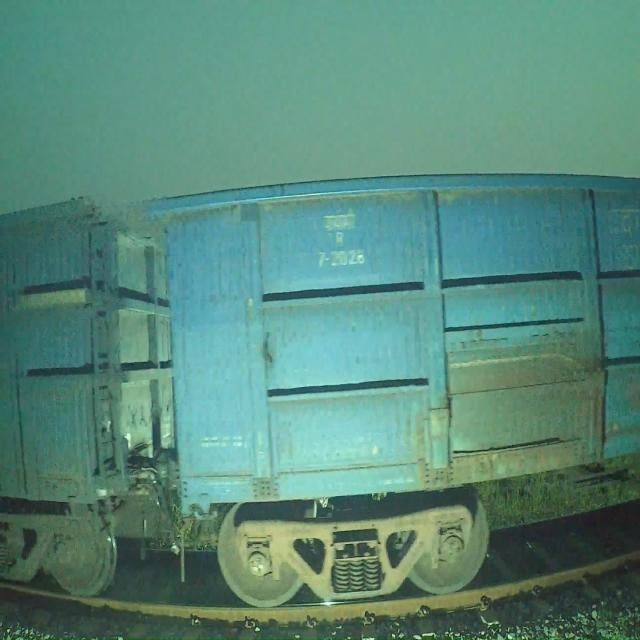WAgon-uic: (143, 169, 640, 610), (0, 193, 224, 600)
